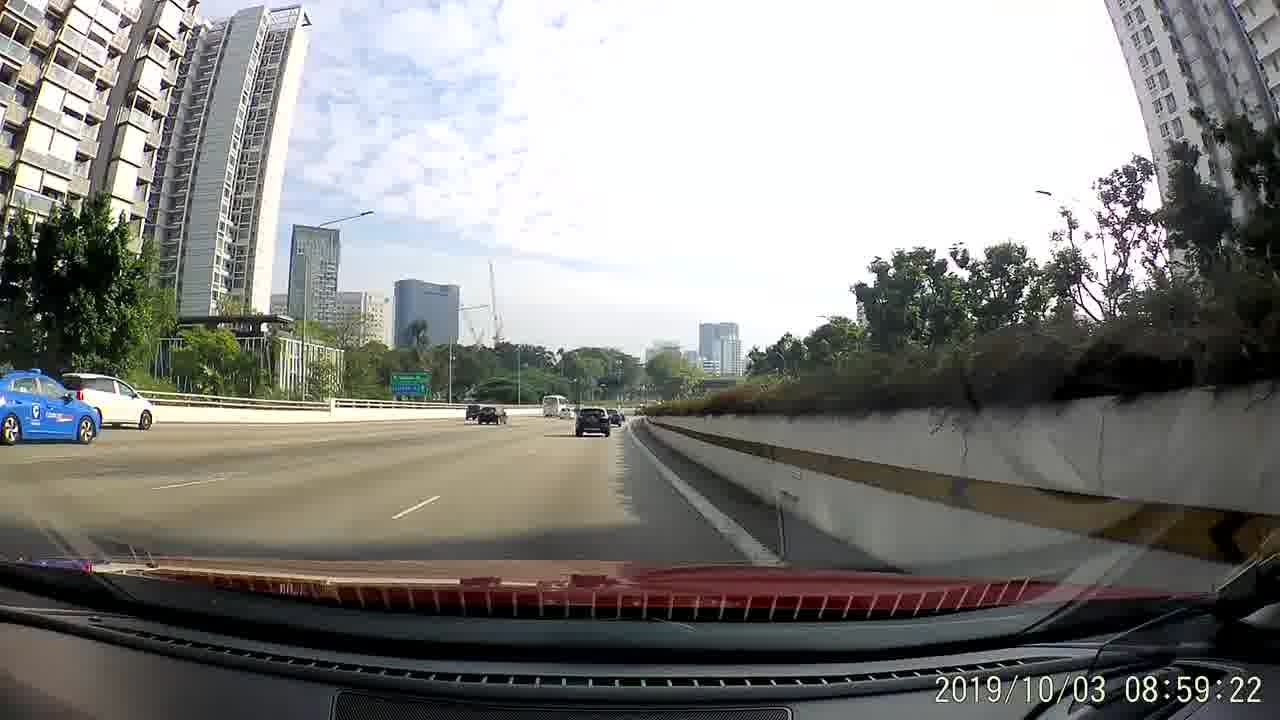car: (2, 366, 99, 446), (55, 369, 160, 428), (573, 406, 611, 438), (476, 403, 508, 426), (465, 402, 483, 419), (556, 408, 571, 418)
